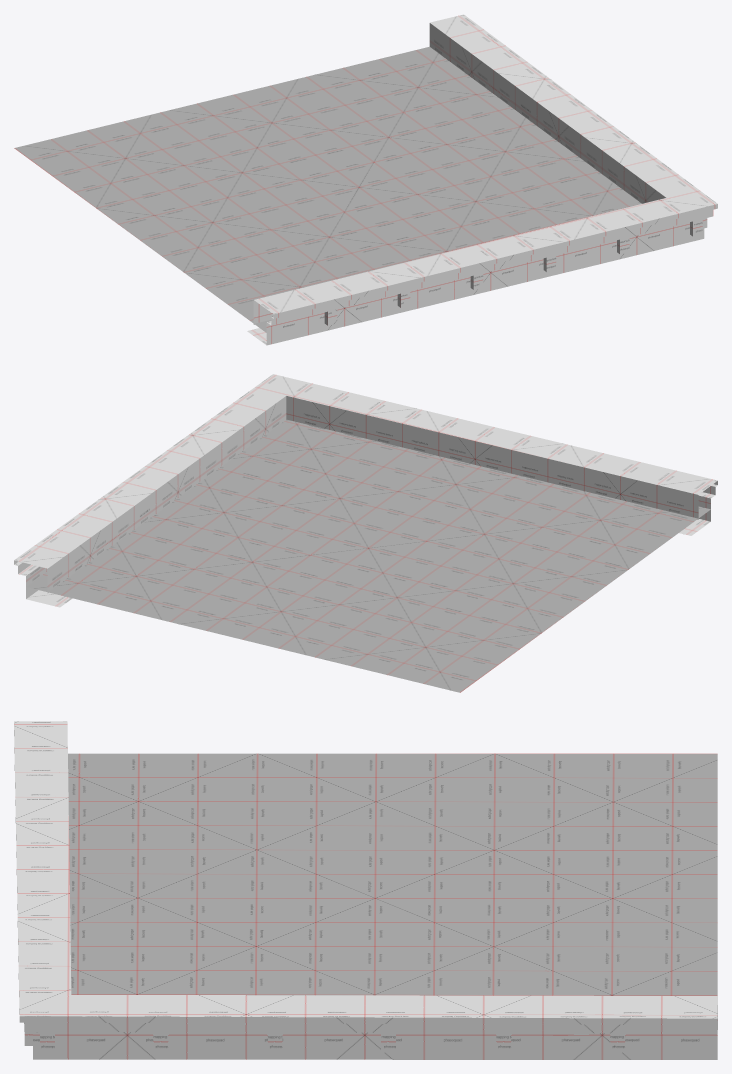
File: T_03_3x_close.FBX
The picture shows the model from 3 angles, top to bottom: view 1: azimuth 30°, elevation 25°; view 2: azimuth 150°, elevation 25°; view 3: azimuth 270°, elevation 25°; orthographic projection. The views are drawn at different scales.
Visible parts, largest first — view 1: R_02_3x_close_a; view 2: R_02_3x_close_a; view 3: R_02_3x_close_a.
Part boxes in pixels (bbox=[...]): R_02_3x_close_a: bbox=[14, 14, 717, 345]; R_02_3x_close_a: bbox=[14, 374, 717, 692]; R_02_3x_close_a: bbox=[14, 721, 717, 1059].
Size of the model in its own units: 61.71 by 61.71 by 4.76.
